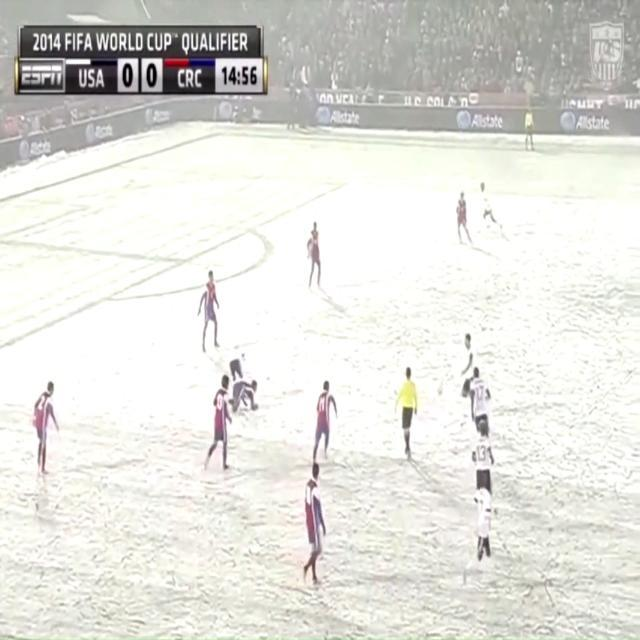ball: (436, 383, 445, 400)
player: (463, 483, 501, 586), (302, 463, 330, 598), (31, 369, 61, 485), (467, 349, 497, 443), (197, 263, 225, 363), (204, 378, 232, 477), (475, 177, 506, 253), (314, 374, 336, 467), (471, 426, 496, 507), (305, 212, 327, 294), (456, 332, 478, 414), (229, 376, 265, 424), (452, 190, 475, 252), (225, 344, 253, 387)
referee: (395, 359, 417, 466), (524, 107, 537, 157)
